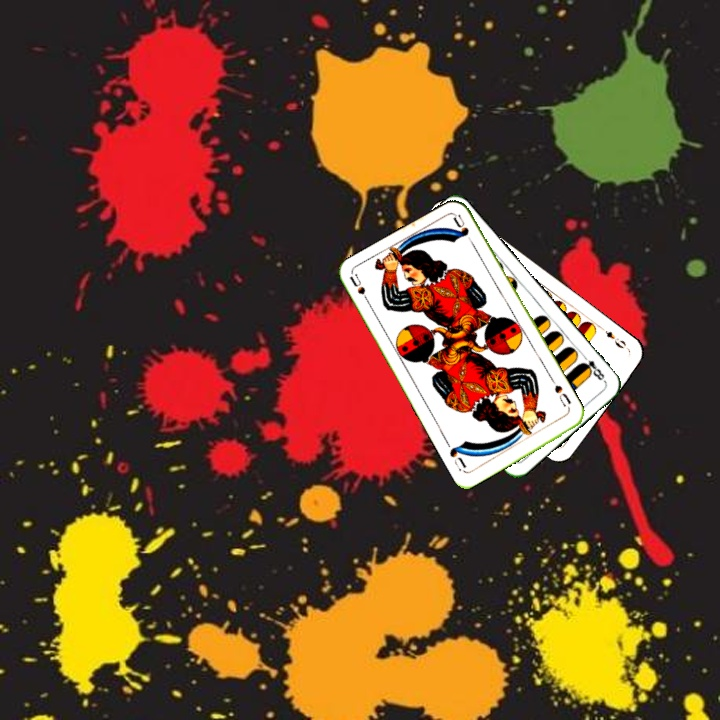E8: (577, 350, 608, 385)
E9: (597, 323, 631, 353)
SU: (346, 271, 374, 309), (547, 376, 573, 414)
